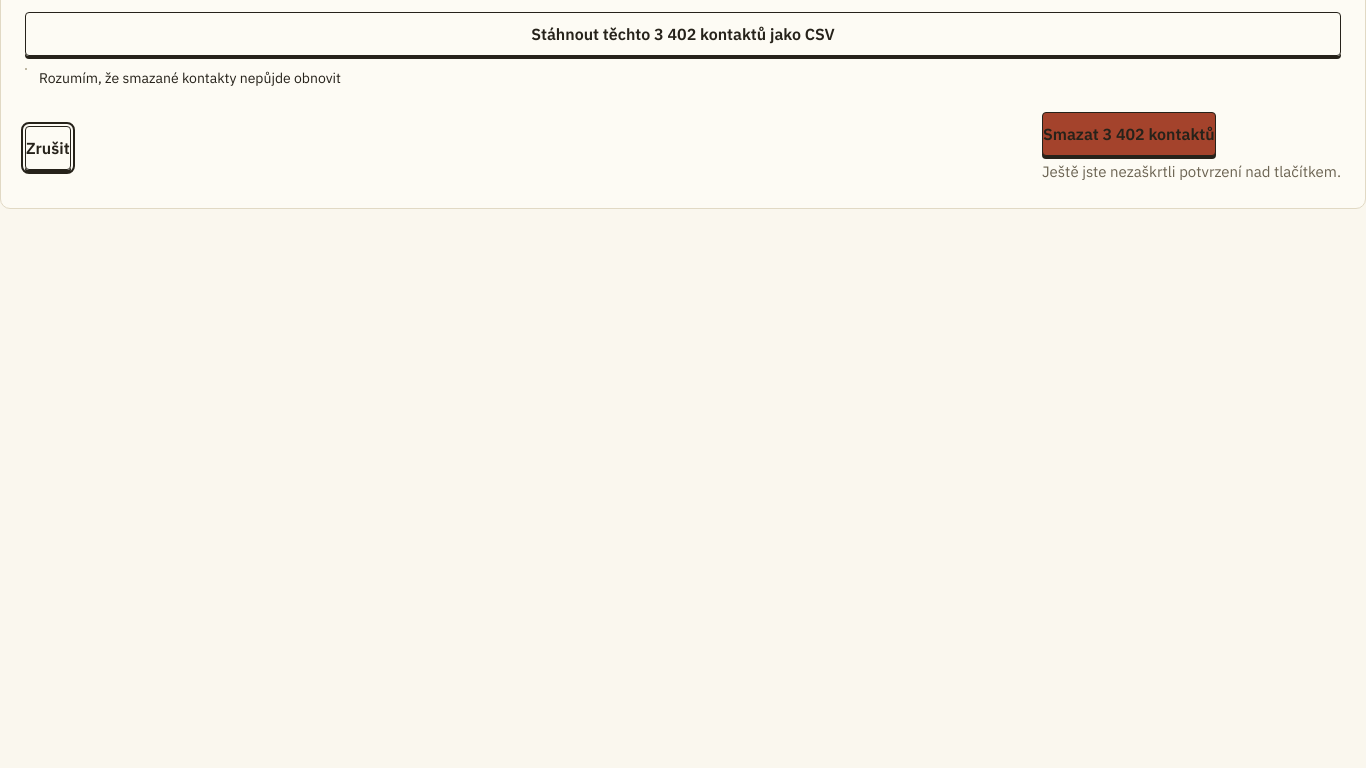
Test: BulkDeleteDialog › nabídne export přímo v dialogu a počká na něj
The width and height of the screenshot is (1366, 768).
Click the button "Stáhnout těchto 3 402 kontaktů jako CSV" at [683, 34], box x1=25 y1=12 x2=1341 y2=56
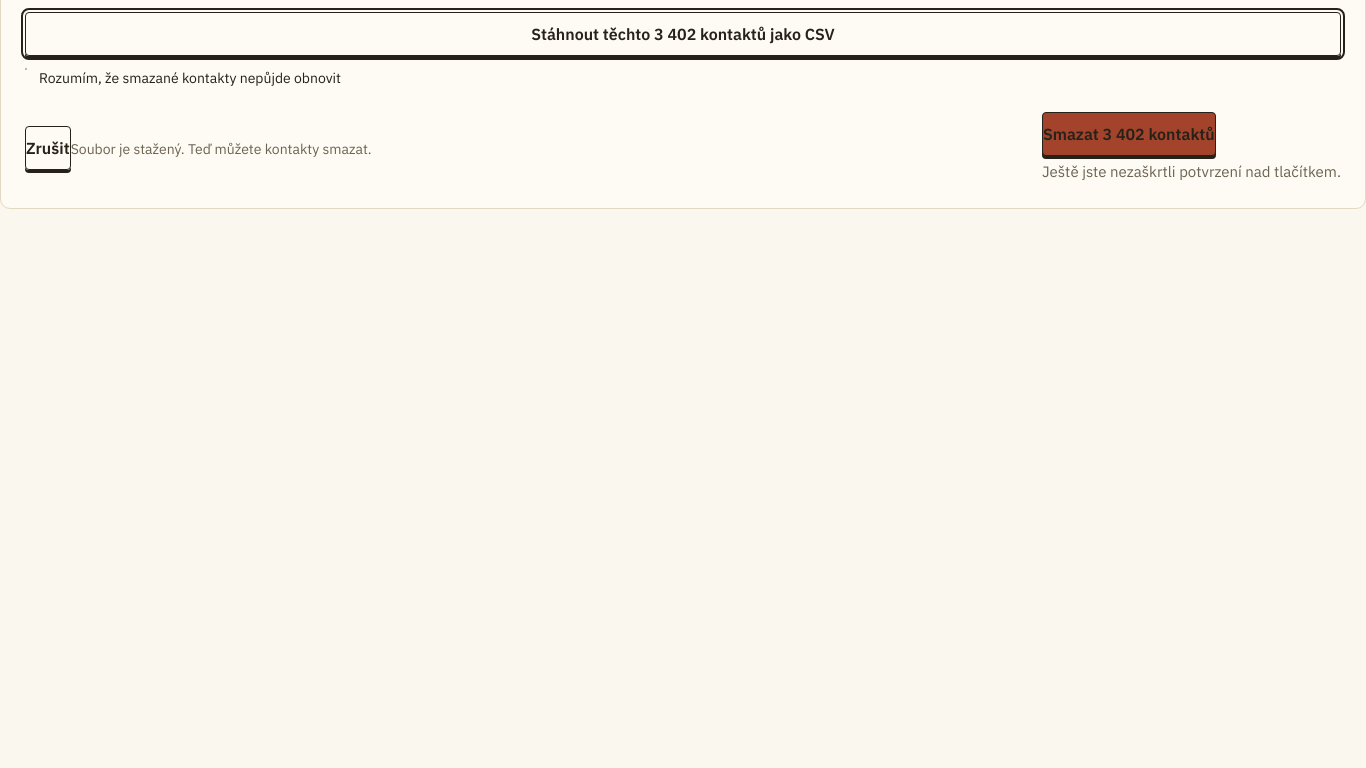
Check: the text "Soubor je stažený. Teď můžete kontakty smazat." is shown, box x1=71 y1=140 x2=372 y2=158
